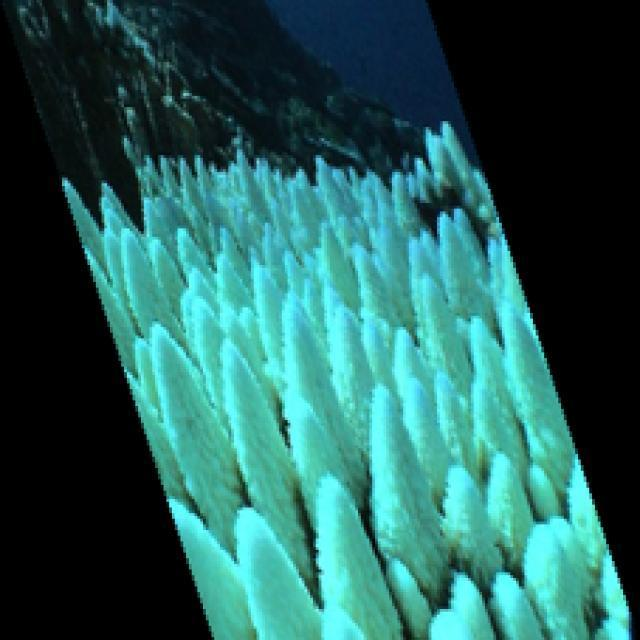Bleached: (60, 153, 640, 640), (404, 117, 501, 230)
